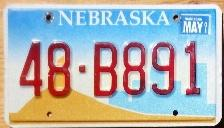1: (182, 39, 204, 97)
4: (18, 39, 45, 100)
8: (45, 39, 74, 99), (121, 39, 148, 97)
9: (150, 40, 177, 96)
B: (45, 39, 74, 99), (91, 40, 120, 99)
